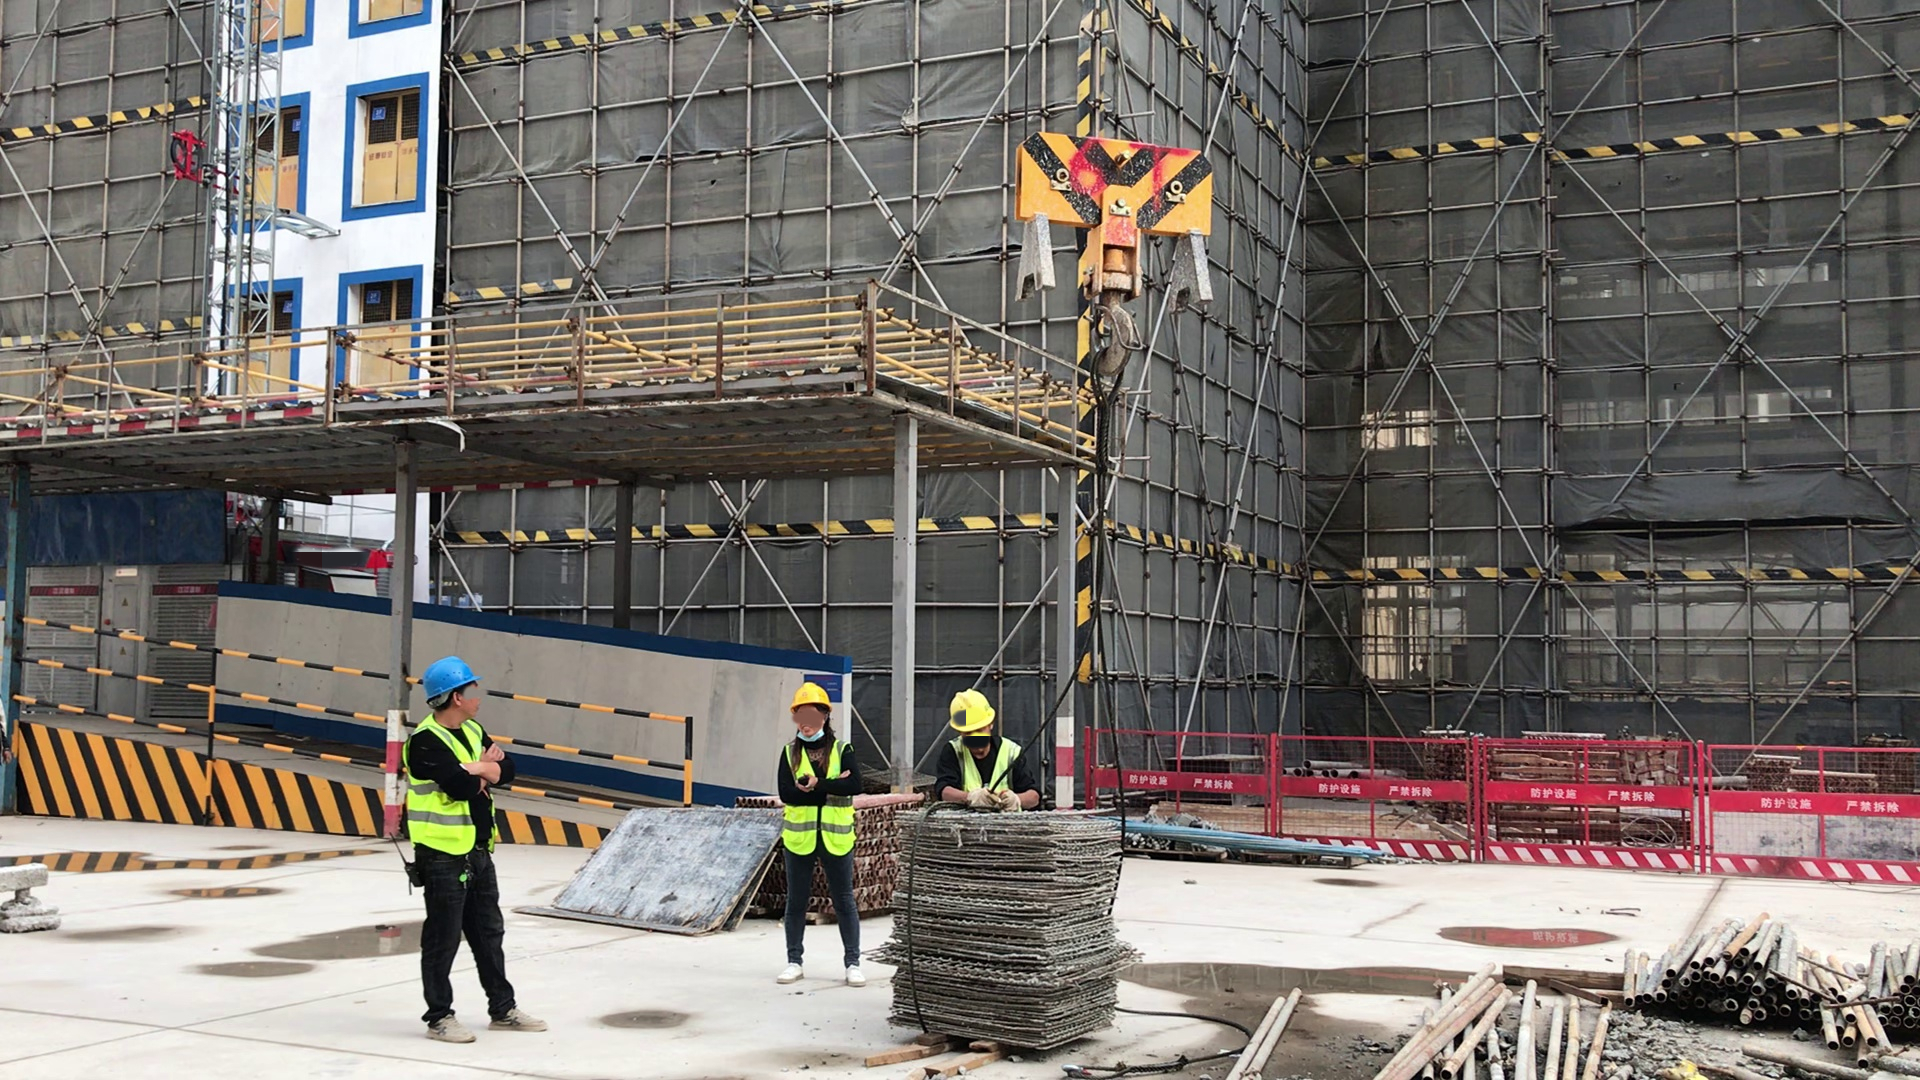fence: (1384, 734, 1919, 889), (33, 608, 376, 780), (1140, 717, 1381, 826), (507, 669, 700, 790)
helmet: (419, 658, 480, 712), (944, 691, 995, 732), (788, 678, 829, 716)
hook: (1013, 130, 1225, 368)
person: (403, 656, 559, 1052), (759, 679, 870, 991), (922, 685, 1044, 812)
scaffold: (1615, 906, 1920, 1058)
slogan: (172, 585, 203, 597), (51, 586, 81, 597)
vest: (406, 717, 501, 857), (780, 735, 856, 858), (928, 732, 1025, 808)
